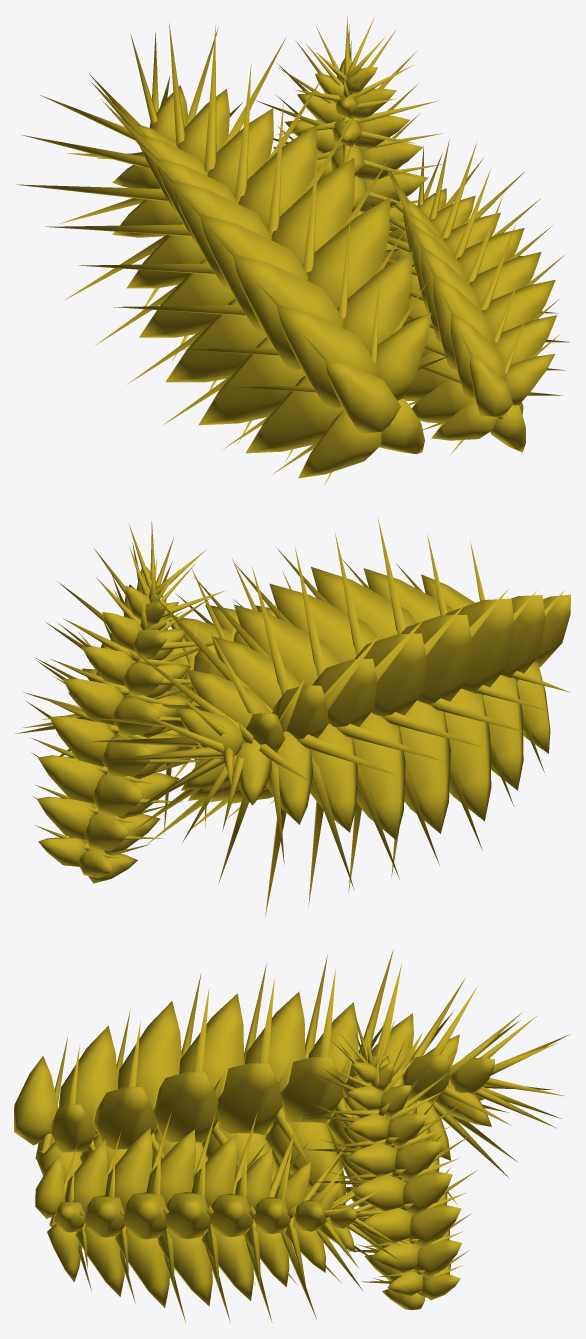
The model's file is Wheat.fbx.
The picture shows the model from 3 angles, top to bottom: view 1: azimuth 30°, elevation 25°; view 2: azimuth 150°, elevation 25°; view 3: azimuth 270°, elevation 25°; orthographic projection. The views are drawn at different scales.
Parts seen in each view (by area): view 1: Cube; view 2: Cube; view 3: Cube.
Boxes of the visible parts, bbox=[...] form: Cube: bbox=[17, 16, 569, 485]; Cube: bbox=[15, 517, 570, 915]; Cube: bbox=[14, 949, 570, 1322].
Size of the model in its own units: 0.2578 by 0.1927 by 0.3252.
